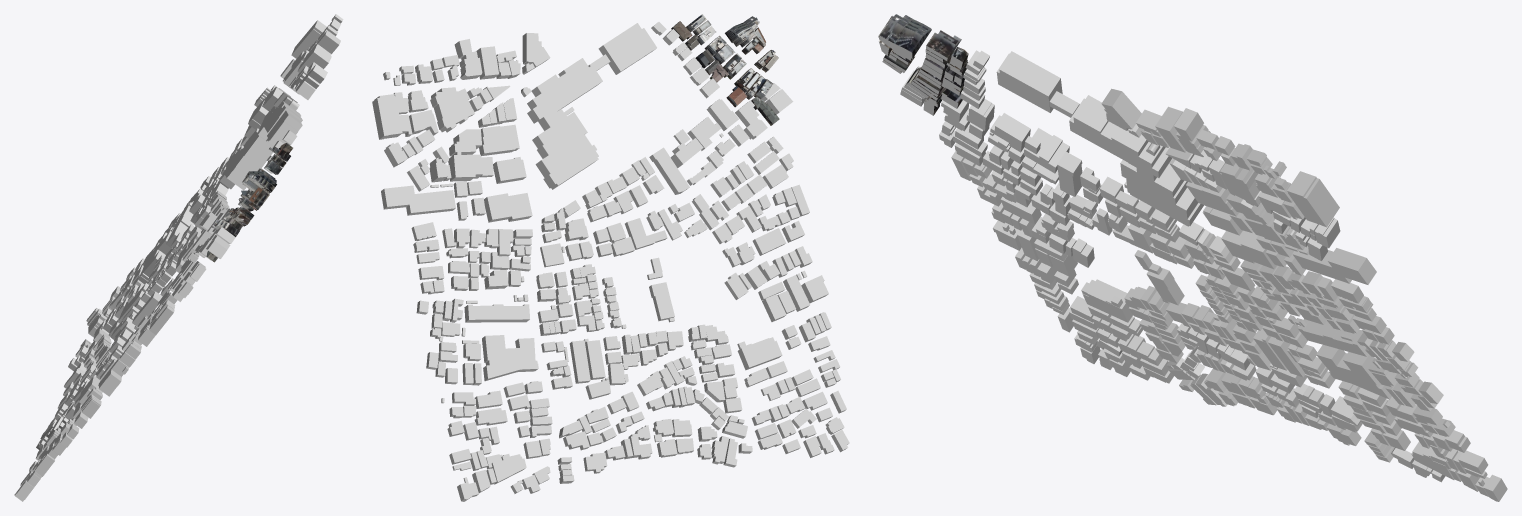
The model's file is data69.glb.
3 renders of one model, left to right at view 1: azimuth 30°, elevation 25°; view 2: azimuth 150°, elevation 25°; view 3: azimuth 270°, elevation 25°, orthographic. The views are drawn at different scales.
Size of the model in its own units: 326 by 281 by 338.
Materials: 2 (1 with a texture image).
